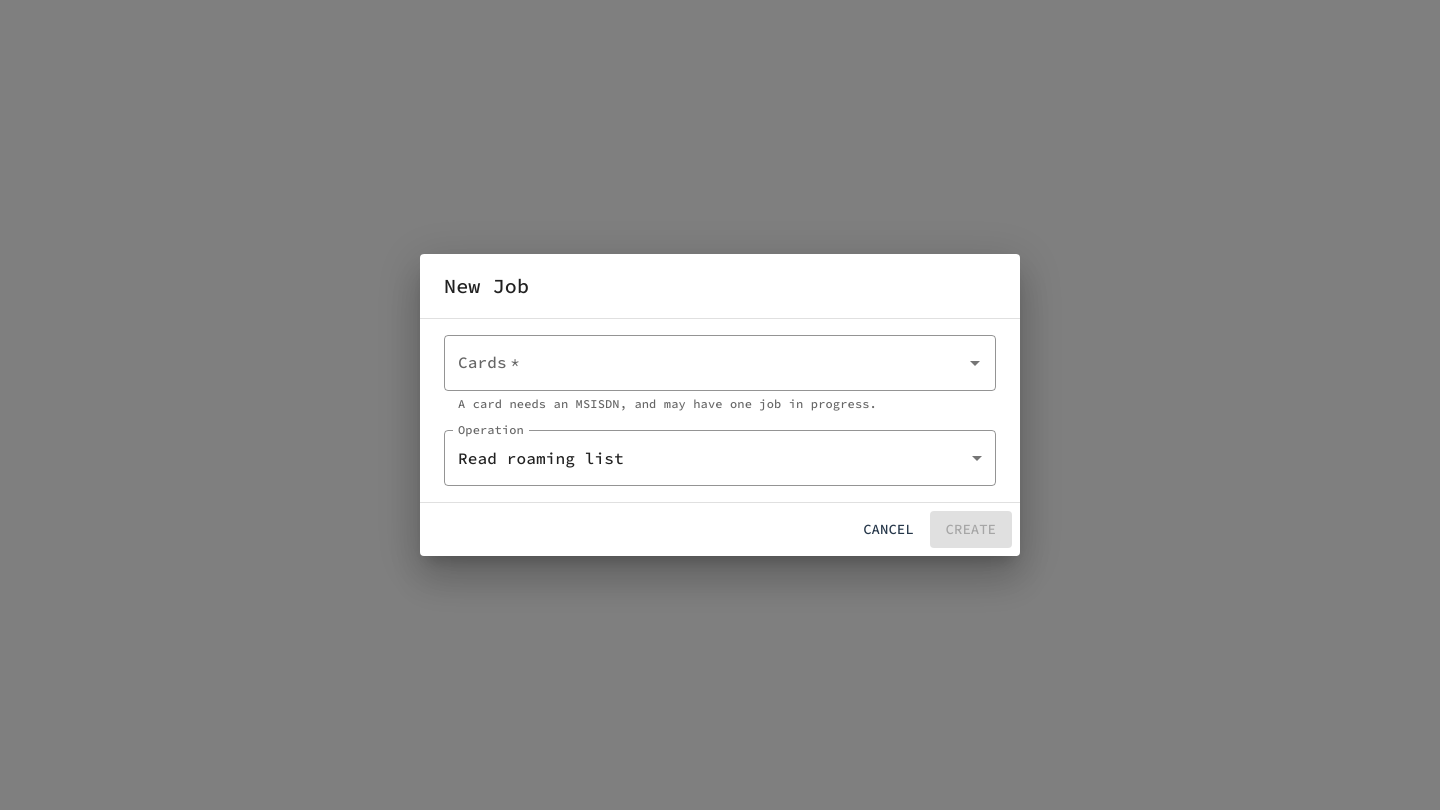
Test: NewJobDialog › reads the roaming lists of the cards
Expected: the text "A card needs an MSISDN, and may have one job in progress." is shown, [458,396,877,411]
Expected: the button "Create" is disabled, [930,511,1012,548]
Click the button named "Open" at (975, 363), box [961,349,989,377]
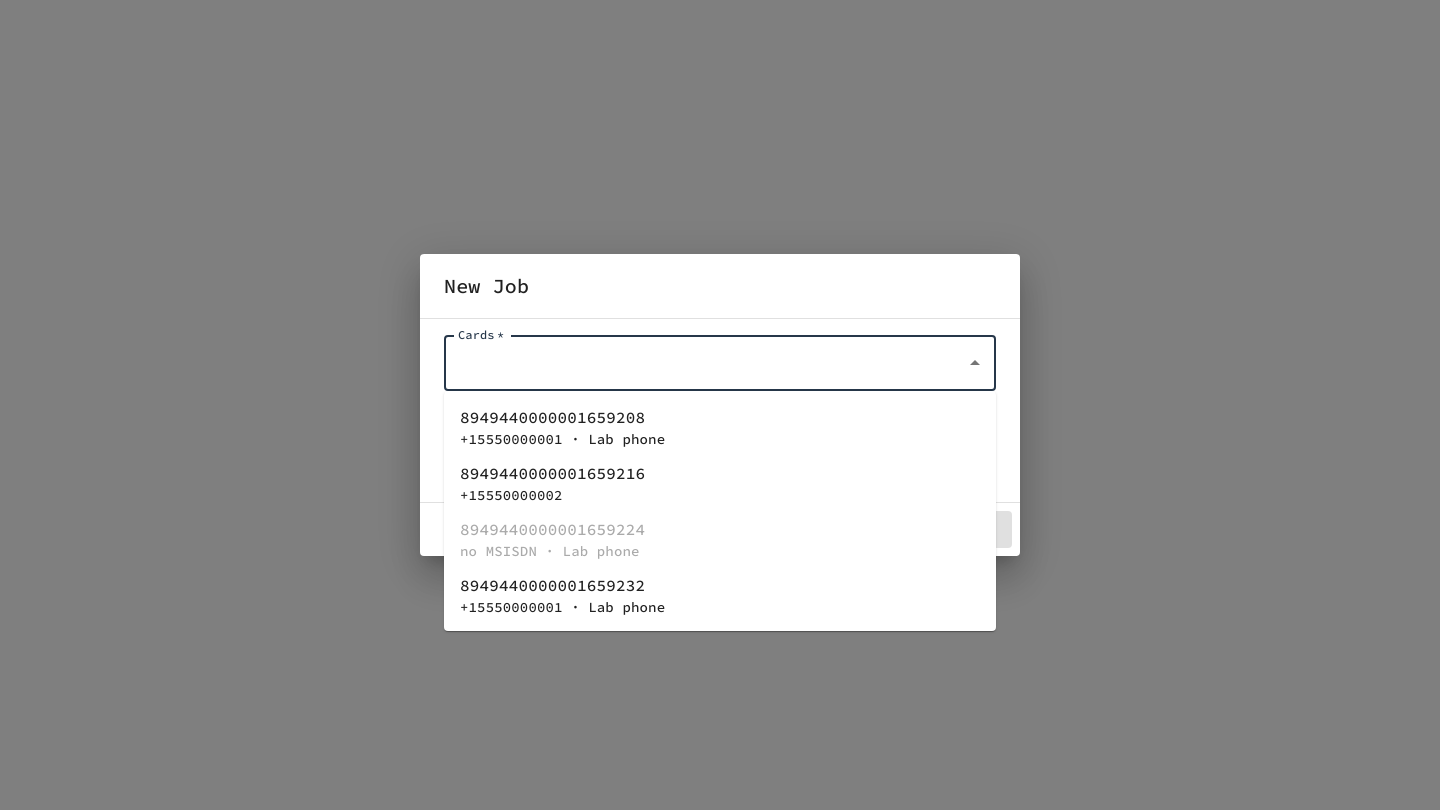
Click the option "8949440000001659208 +15550000001 · Lab phone" at (563, 428), box [460,407,665,448]
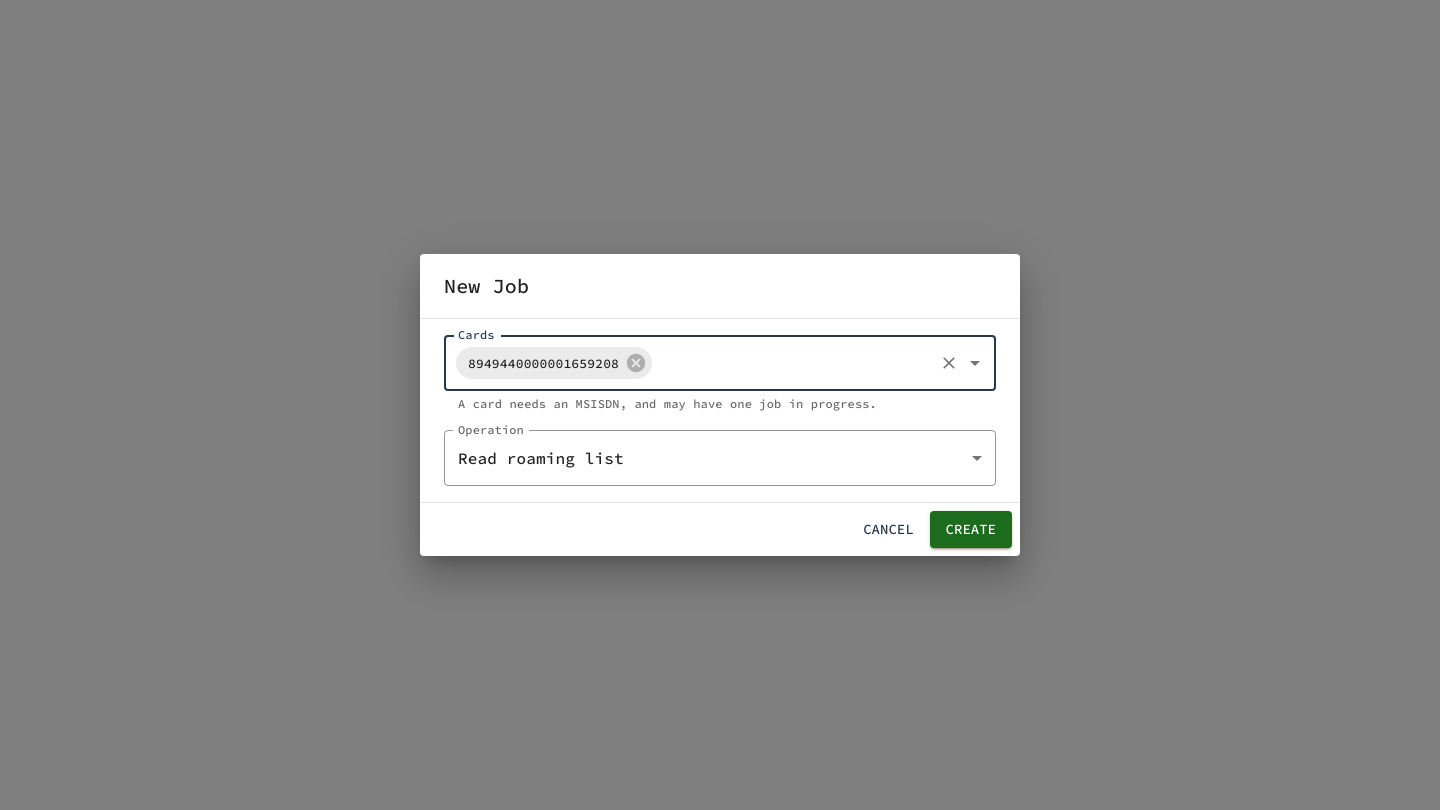
Click the button named "Open" at (975, 363), box [961,349,989,377]
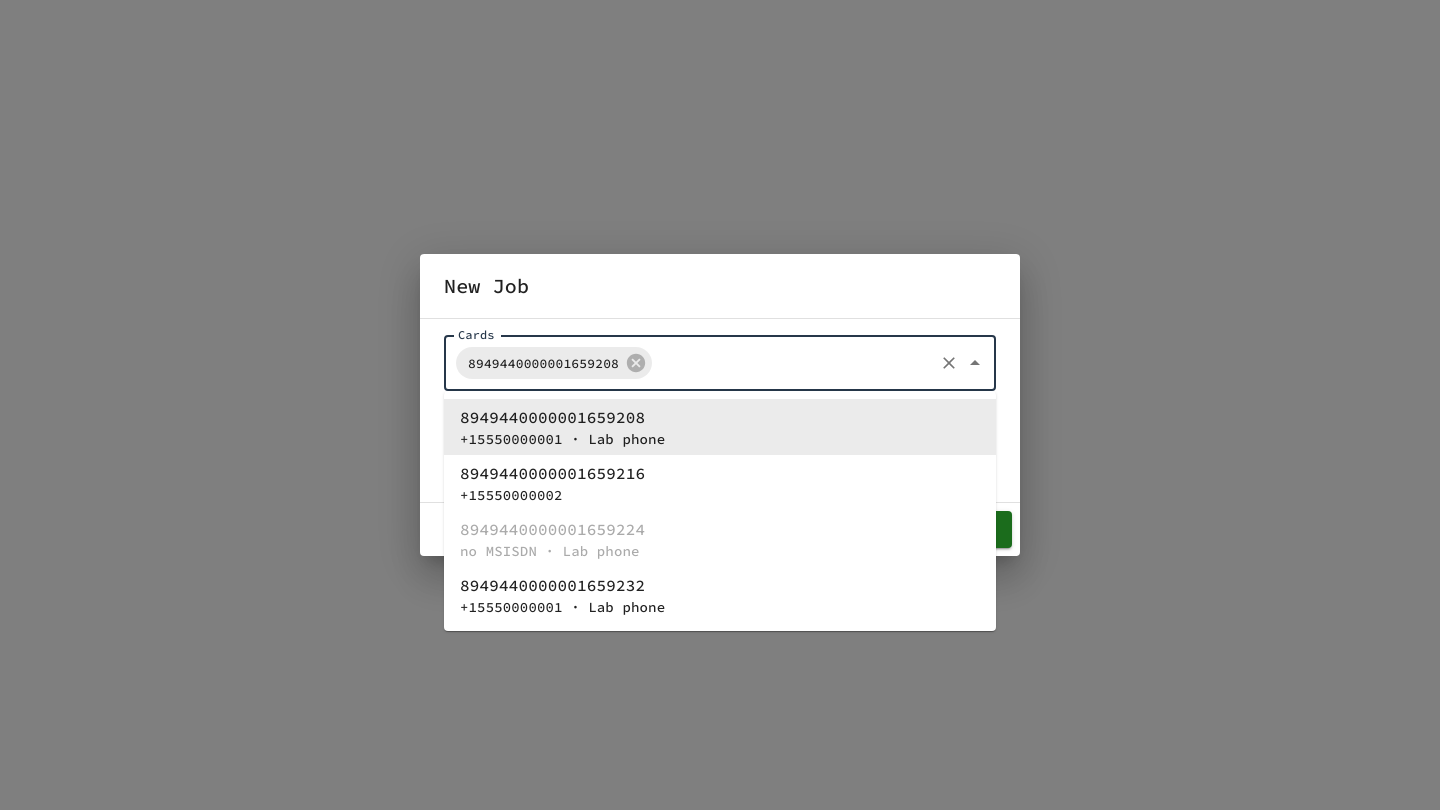
Click the option "8949440000001659216 +15550000002" at (553, 484), box [460,463,645,504]
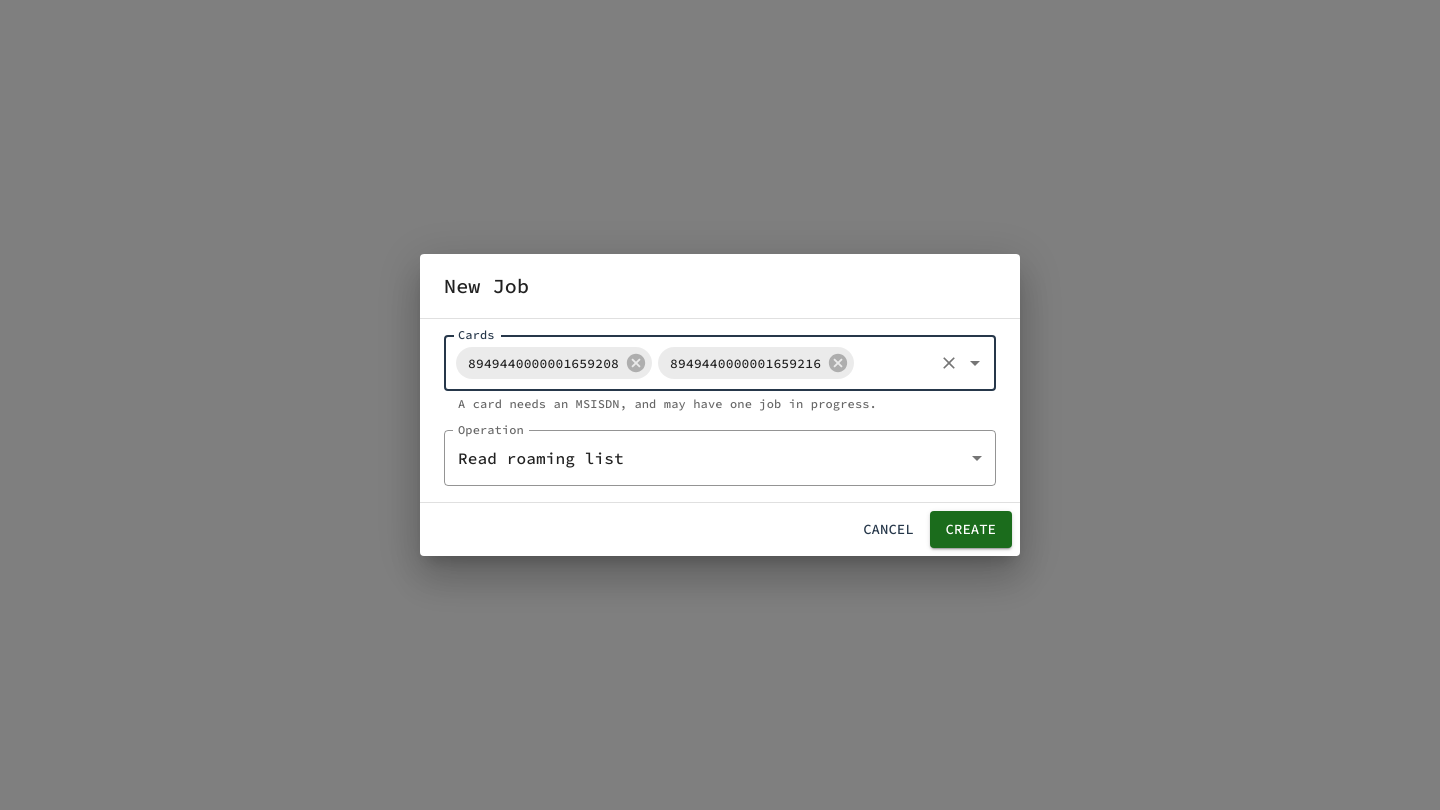
Click the button "Create" at (971, 529), box [930,511,1012,548]
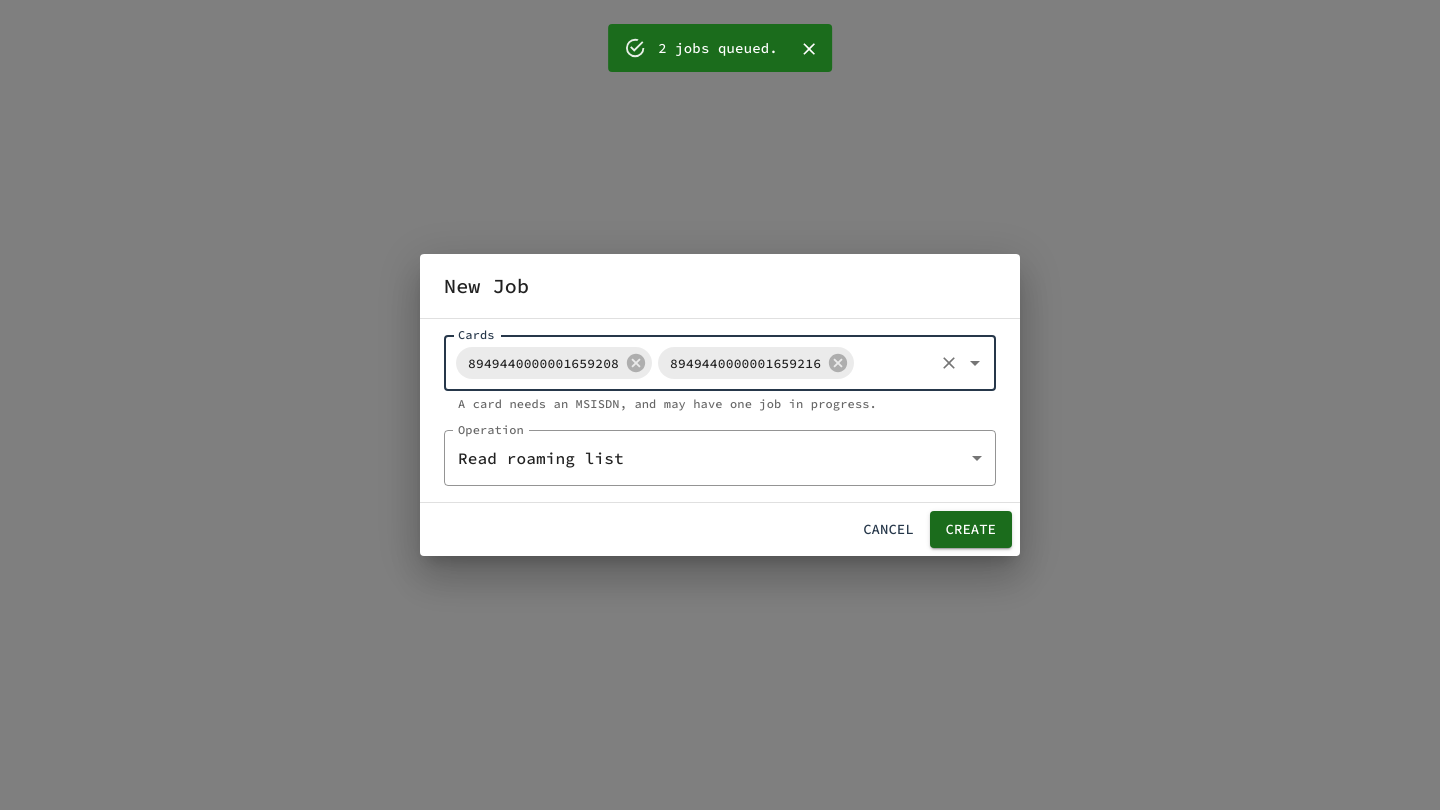
Result: the text "2 jobs queued." is shown at [658,39,778,57]
